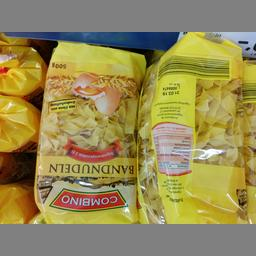pasta: (139, 31, 248, 222), (33, 39, 144, 223)
